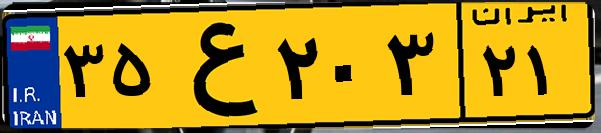0: (330, 28, 385, 110)
1: (525, 38, 570, 115)
2: (270, 28, 330, 110), (475, 38, 525, 113)
3: (385, 28, 445, 110), (57, 26, 110, 100)
5: (110, 28, 158, 98)
ع: (158, 12, 270, 120)
